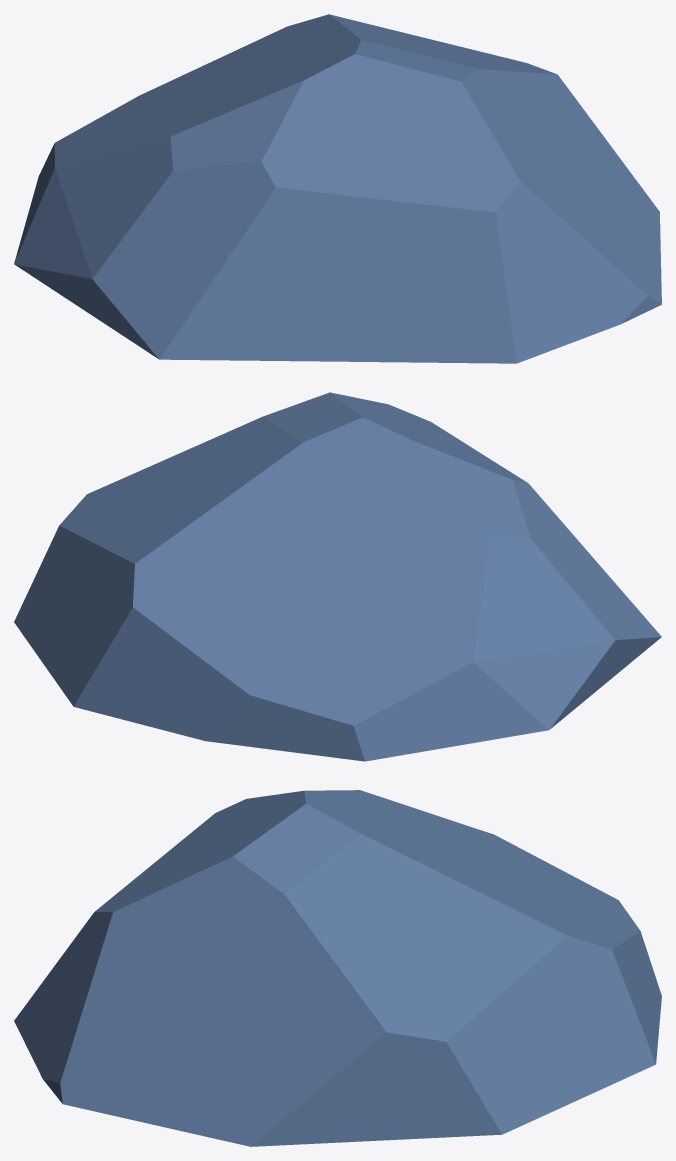
File: rock1.fbx
3 views of the same model, one above another, from view 1: azimuth 30°, elevation 25°; view 2: azimuth 150°, elevation 25°; view 3: azimuth 270°, elevation 25° (orthographic). The views are drawn at different scales.
Visible parts, largest first — view 1: rock1; view 2: rock1; view 3: rock1.
Boxes of the visible parts, x1,y1,x2,y2 form: rock1: (14, 14, 661, 363); rock1: (14, 392, 661, 761); rock1: (14, 790, 661, 1146).
Bounding box in the file's own units: 36.66 × 13.39 × 37.58.
